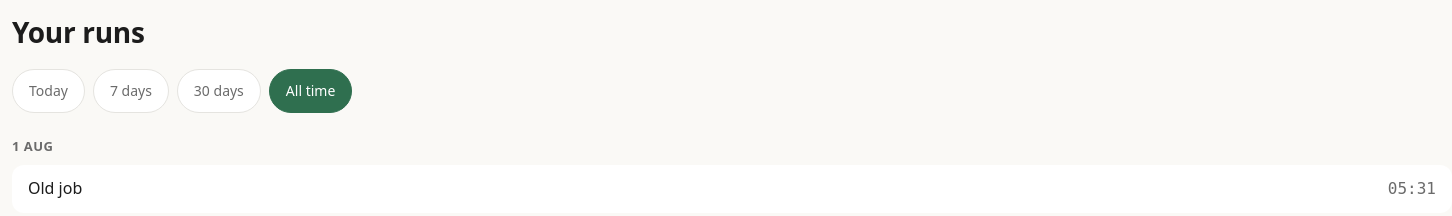
Scenario: History page › shows a filter-specific empty state rather than claiming there are no runs at all
This screenshot has width=1452, height=216.
Check: the text "Old job" is shown, box [28,177,82,199]
Click the button "Today".
click(48, 91)  # box [12,69,85,113]
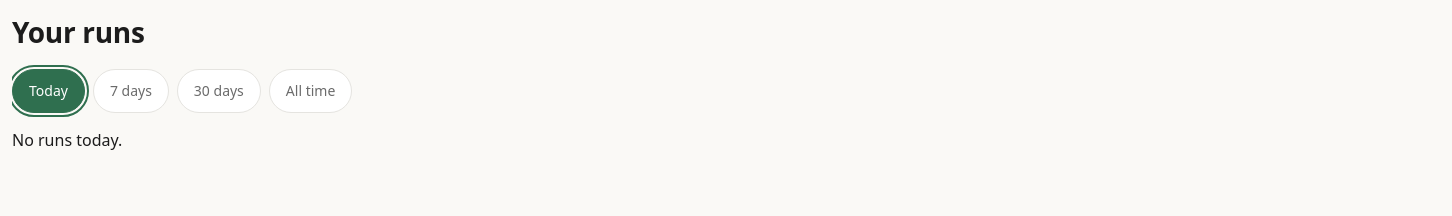
Check: the text "Old job" is gone
Check: the text "No runs today." is shown, box [12,129,122,151]
